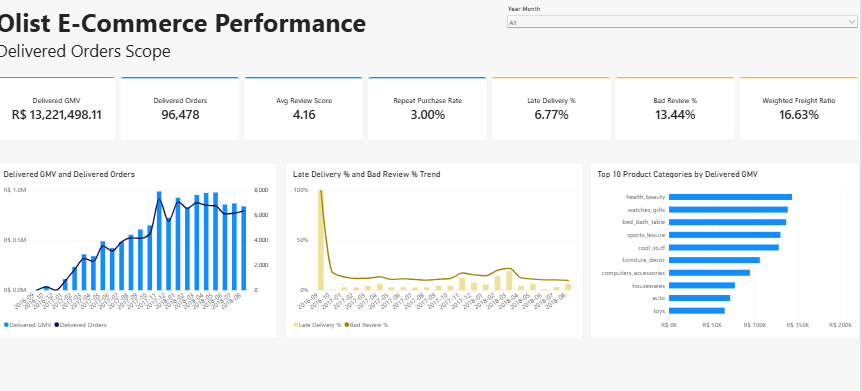

The page's visual inventory and layout, read from the dashboard file:
{"tool":"powerbi","page":{"name":"Page 1","canvas":[1920,1080],"ordinal":0},"visuals":[{"type":"cardVisual","fields":{"Data":["_Measures.Delivered GMV","_Measures.Delivered Orders","_Measures.Avg Review Score","_Measures.Repeat Purchase Rate","_Measures.Late Delivery %","_Measures.Bad Review %","_Measures.Weighted Freight Ratio"]},"box":[0,172.5,1919.6,141.2],"z":0},{"type":"textbox","box":[0,14,1098,124],"z":1000},{"type":"slicer","fields":{"Values":["Dim_Date.Year Month"]},"box":[1130,14,790,62],"z":2000},{"type":"lineClusteredColumnComboChart","title":"Delivered GMV and Delivered Orders","fields":{"Category":["Dim_Date.Year Month"],"Y":["_Measures.Delivered GMV"],"Y2":["_Measures.Delivered Orders"]},"box":[0,362.7,625.5,392.2],"z":3000},{"type":"lineClusteredColumnComboChart","title":"Late Delivery % and Bad Review %  Trend","fields":{"Category":["Dim_Date.Year Month"],"Y":["_Measures.Late Delivery %"],"Y2":["_Measures.Bad Review %"]},"box":[643.1,362.7,662.7,392.2],"z":4000},{"type":"clusteredBarChart","title":"Top 10 Product Categories by Delivered GMV","fields":{"Category":["Dim_Products.product_category_name_english"],"Y":["_Measures.Delivered GMV"]},"box":[1319.6,362.7,600,392.2],"z":5000}]}

Visuals, with their boxes on the page's 1920x1080 design canvas (x1, y1, x2, y2). These are canvas units, not pixel positions in the 862x391 screenshot, which may show the page scaled, cropped or inside an application window:
cardVisual - _Measures.Delivered GMV x _Measures.Delivered Orders: bbox(0, 172, 1920, 314)
textbox: bbox(0, 14, 1098, 138)
slicer - Dim_Date.Year Month: bbox(1130, 14, 1920, 76)
"Delivered GMV and Delivered Orders" lineClusteredColumnComboChart: bbox(0, 363, 626, 755)
"Late Delivery % and Bad Review %  Trend" lineClusteredColumnComboChart: bbox(643, 363, 1306, 755)
"Top 10 Product Categories by Delivered GMV" clusteredBarChart: bbox(1320, 363, 1920, 755)
